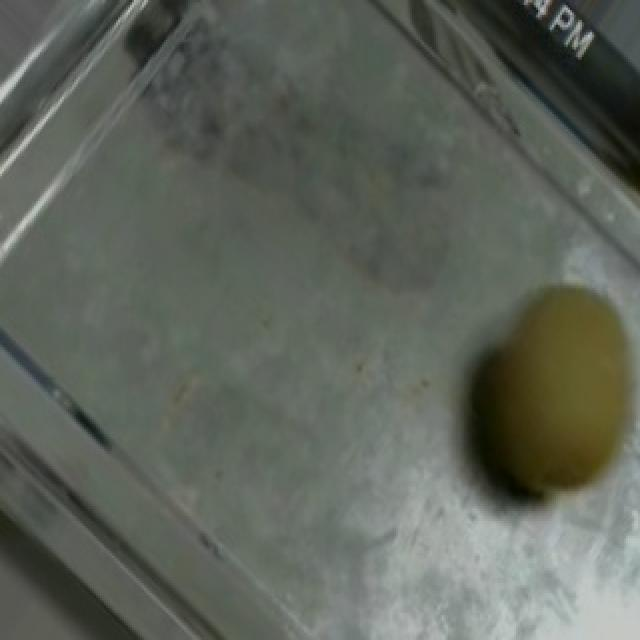Fruit: (428, 248, 640, 531)
